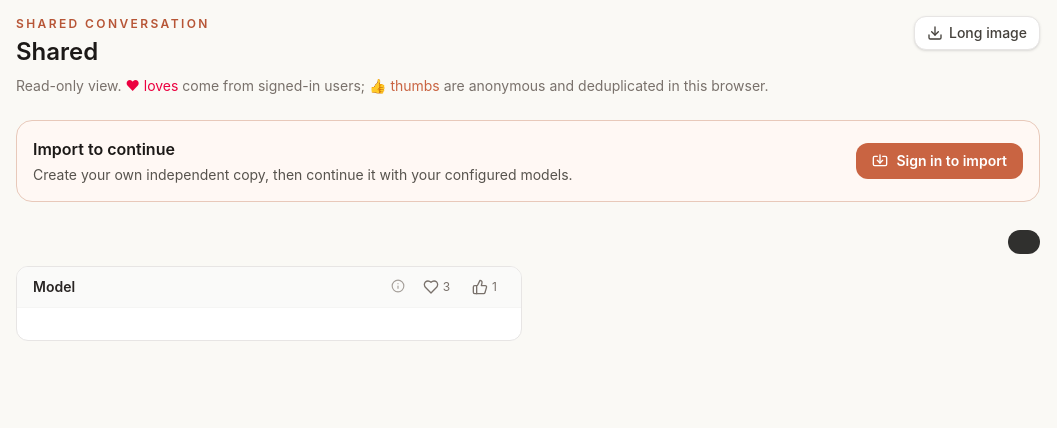
Scenario: SharedConversation › shows named loves and anonymous thumbs separately and never leaks identity
Check: the heading "Shared" is shown, box x1=16 y1=37 x2=98 y2=66
Check: the button named "Loves" reads "3", box x1=415 y1=275 x2=458 y2=299
// The anonymous thumb is the interactive control for a signed-out visitor.
Click the button named "Anonymous thumbs up": (485, 287) x1=464 y1=275 x2=505 y2=299
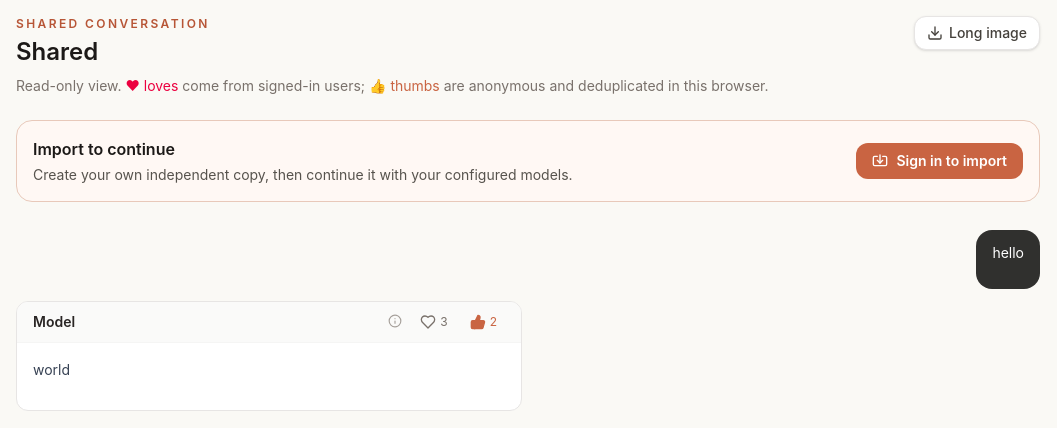
Check: the button named "Anonymous thumbs up" reads "2", box x1=462 y1=310 x2=505 y2=334
